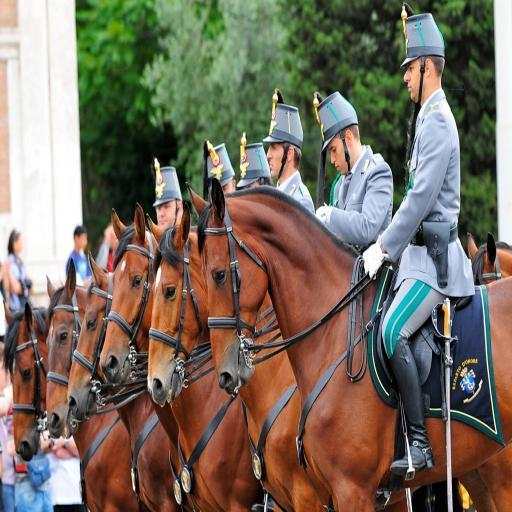horse: (4, 176, 512, 510)
